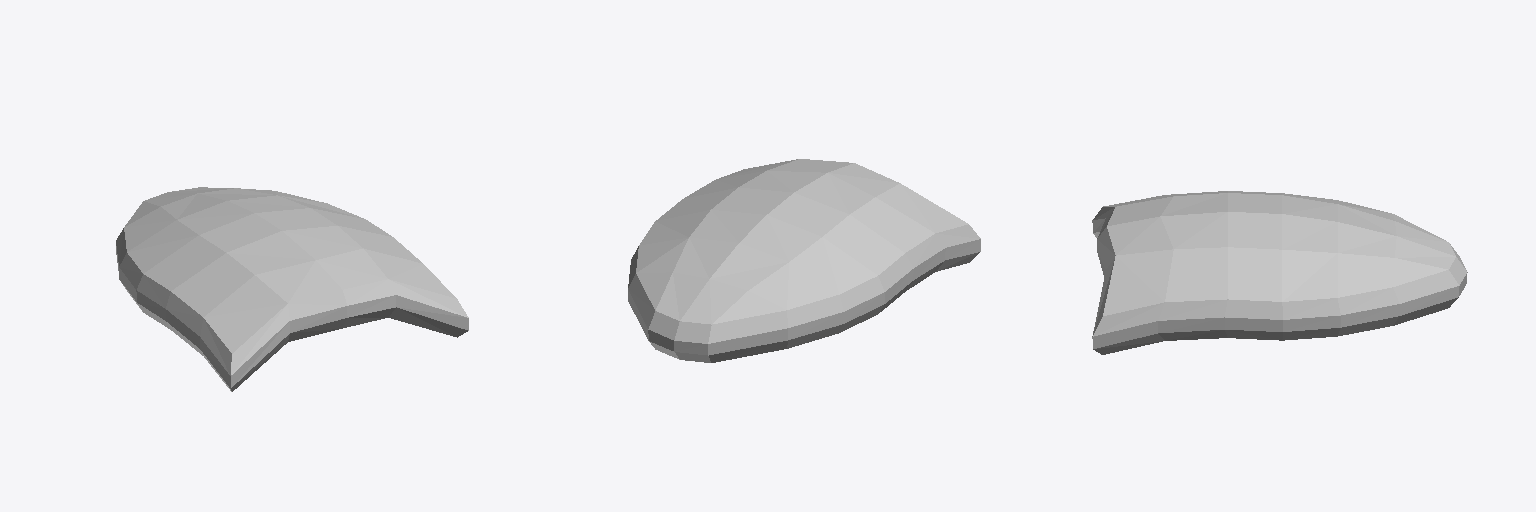
The model's file is shield.obj.
3 renders of one model, left to right at view 1: azimuth 30°, elevation 25°; view 2: azimuth 150°, elevation 25°; view 3: azimuth 270°, elevation 25°, orthographic.
Parts seen in each view (by area): view 1: shield; view 2: shield; view 3: shield.
Boxes of the visible parts, x1,y1,x2,y2 form: shield: [116, 187, 468, 391]; shield: [628, 159, 980, 362]; shield: [1092, 191, 1467, 354].
Size of the model in its own units: 0.556 by 0.1972 by 0.7573.